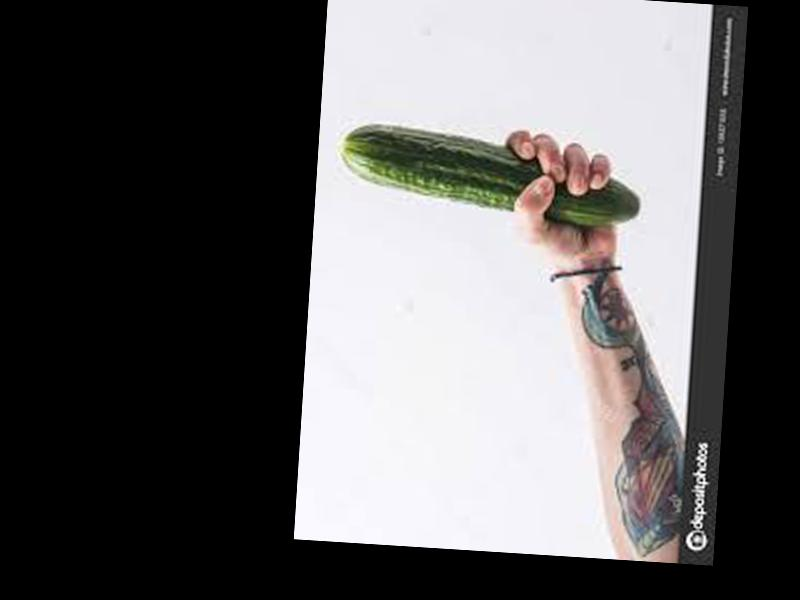Cucumber: (334, 121, 641, 227)
